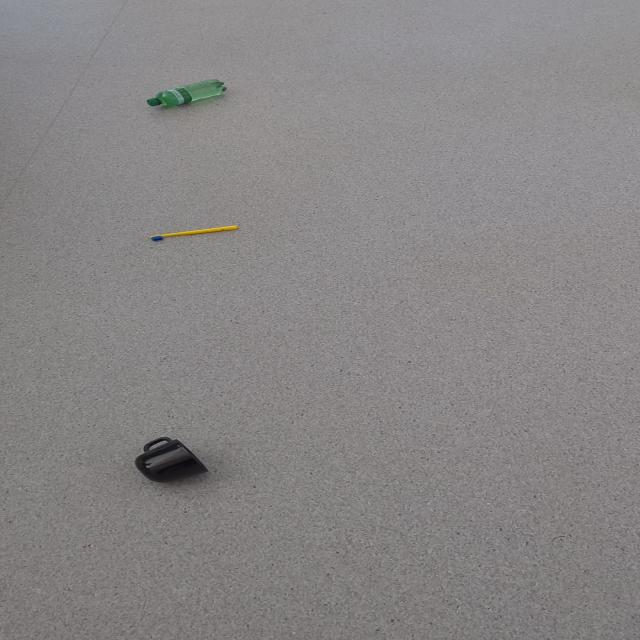bottle: (145, 78, 227, 108)
mug: (133, 436, 209, 482)
toothbrush: (149, 224, 238, 241)
